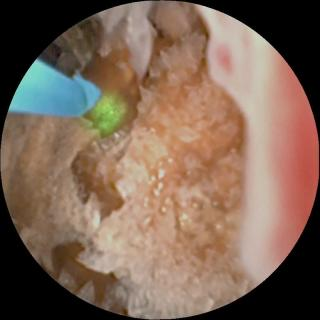fiber: (9, 59, 101, 118)
laser: (94, 97, 124, 131)
stone: (3, 7, 245, 311)
